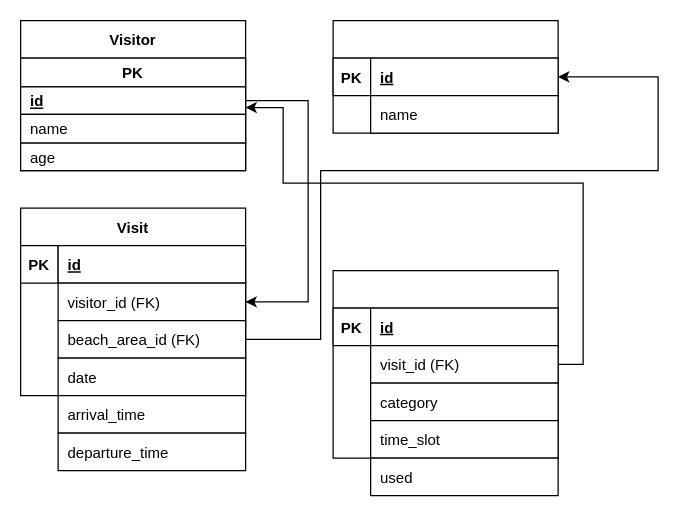
Image size: 679x516. Some labels were removed from this diagram. Each missing label, with the box of its shape:
BeachArea: (332, 19, 558, 133)
RentalMark: (332, 269, 558, 458)
